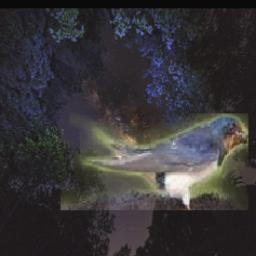Swallow: (60, 114, 248, 211)
